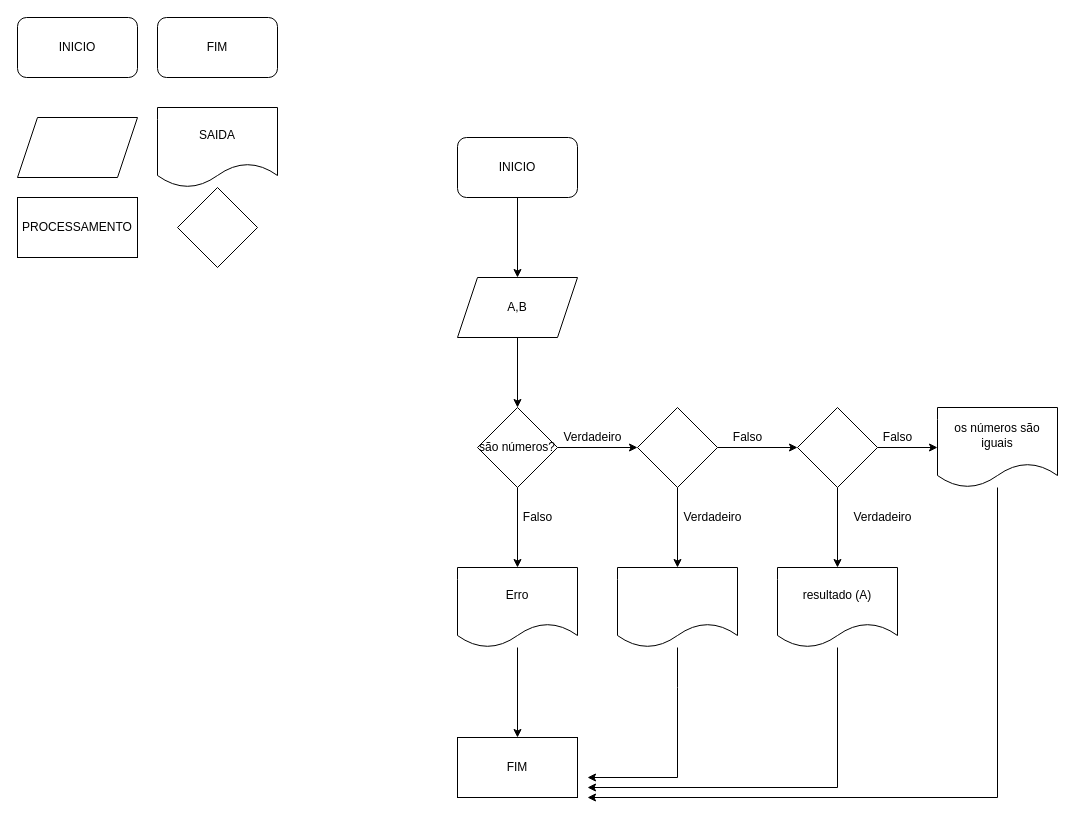
Some shapes in this 1075 by 823 pixel diagram are drawn without their labels. The box of each missing label's shape, as (x1, y1, x2, y2) in pixels:
A>B: (796, 406, 878, 488)
B>A: (636, 406, 718, 488)
DECISÃO: (176, 186, 258, 268)
ENTRADA: (16, 116, 138, 178)
resultado (B): (616, 566, 738, 648)
